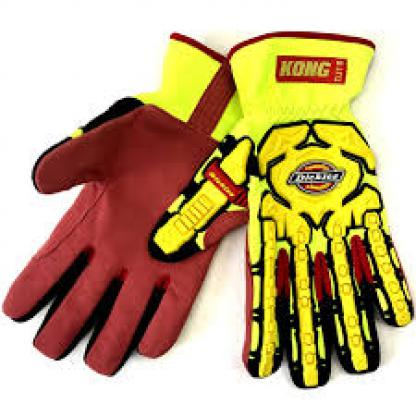with_gloves: (150, 30, 414, 390), (2, 31, 248, 379)
